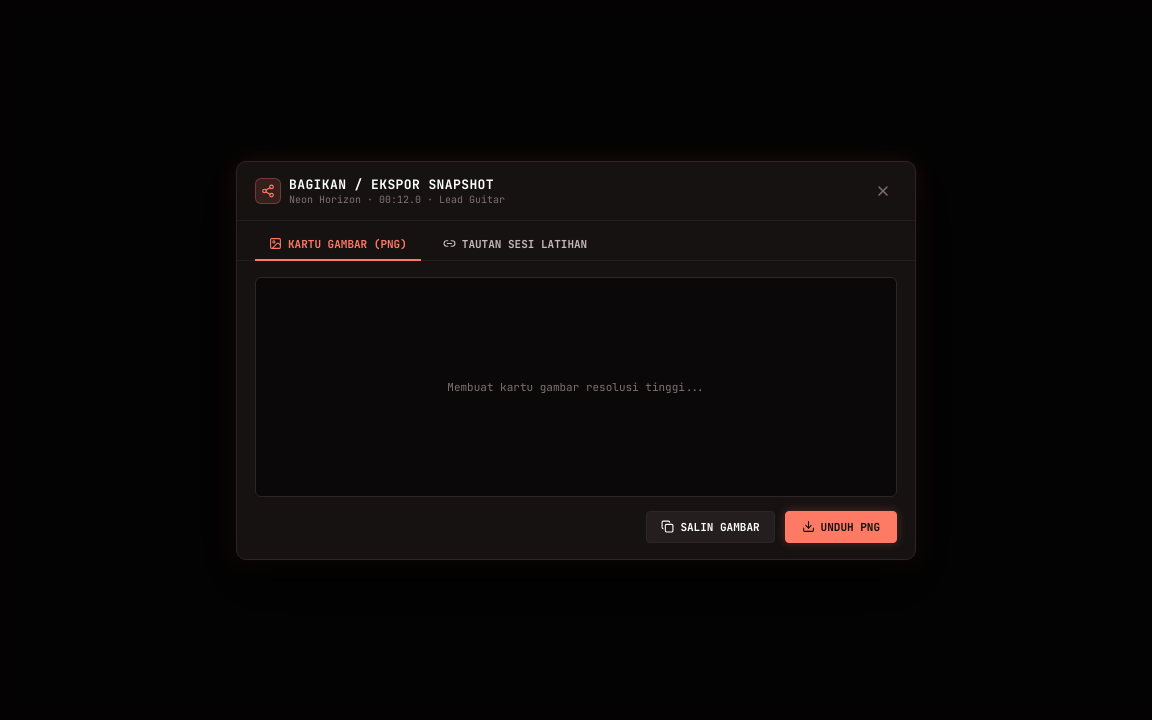
Test: ShareSnapshotModal component › switches between image tab and link tab
Click link tab
Click the button "TAUTAN SESI LATIHAN" at (515, 244), box [429,228,601,260]
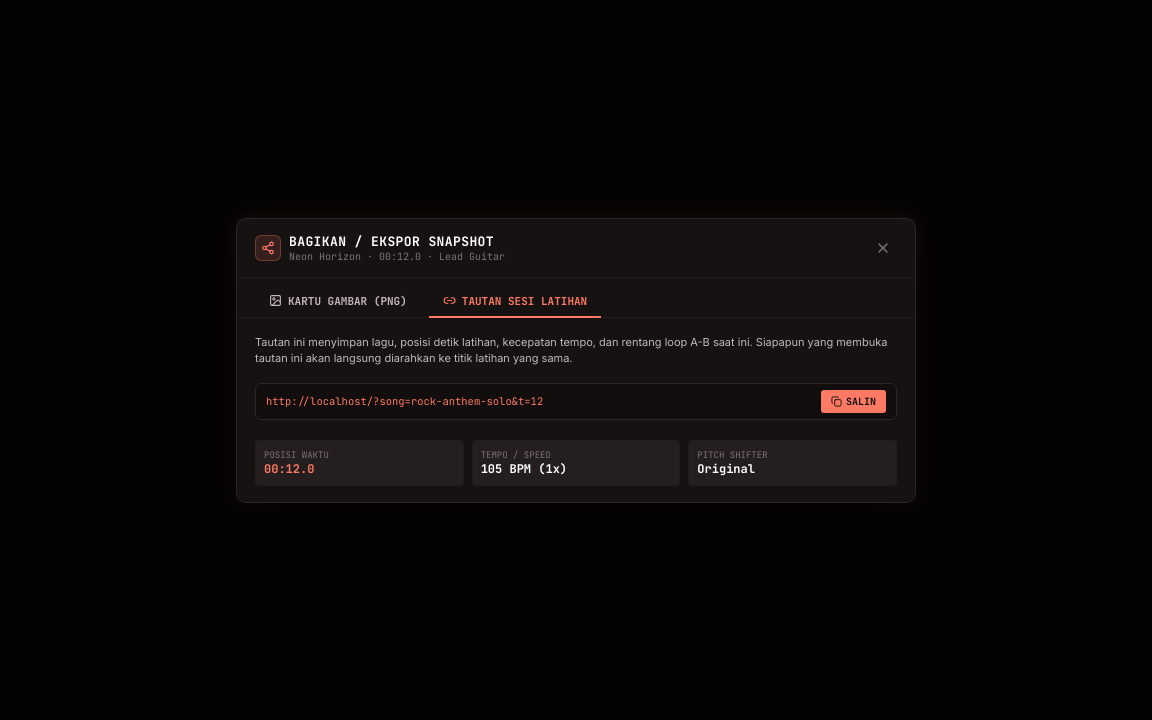
Result: the text "POSISI WAKTU" is shown at [264,448,329,460]
Result: the text "TEMPO / SPEED" is shown at [481,448,551,460]
Click image tab
Click the button "KARTU GAMBAR (PNG)" at (338, 302), box [255,286,421,318]
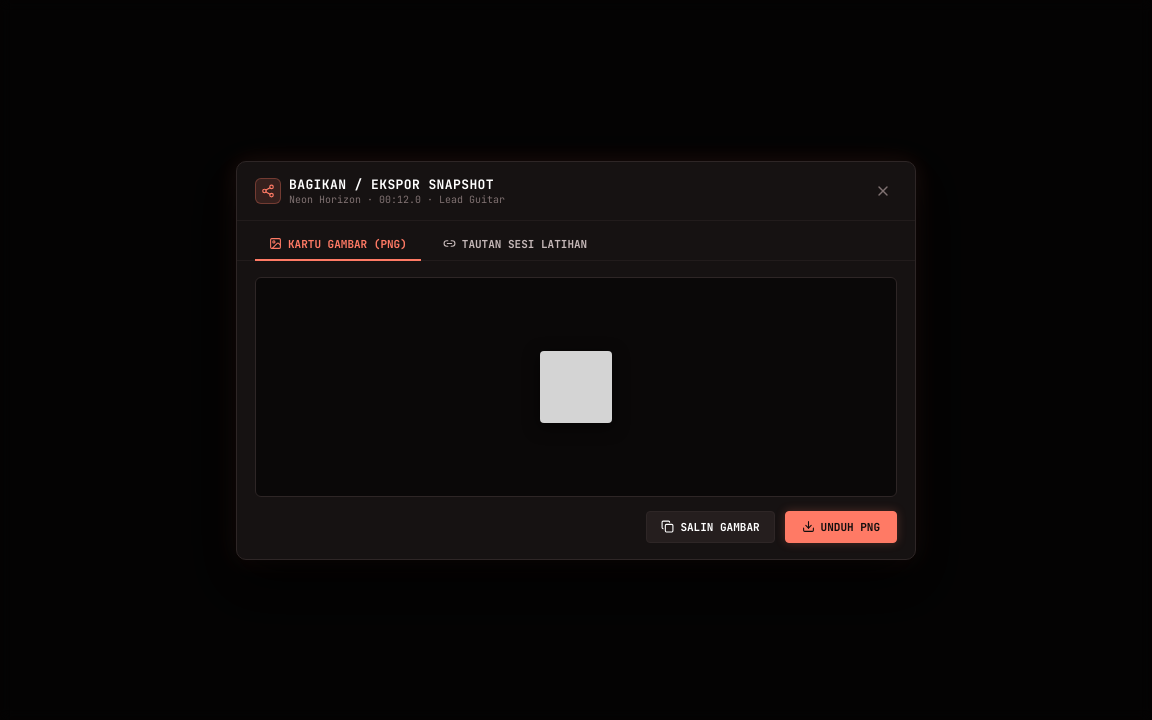
Result: the text "UNDUH PNG" is shown at [821,520,880,534]
